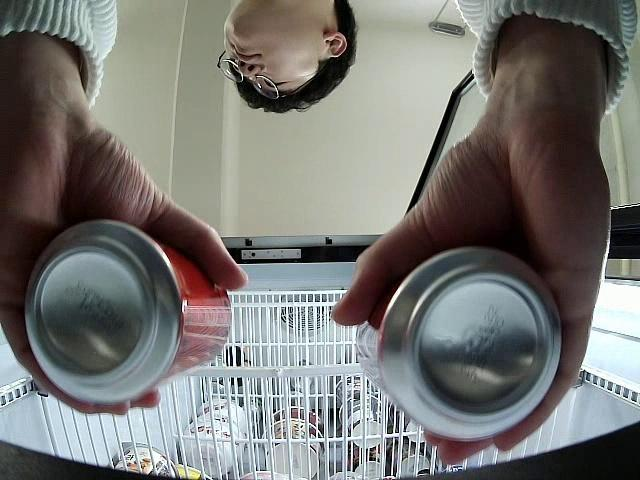11_cocaColaZero: (354, 245, 562, 443), (22, 219, 232, 406)
